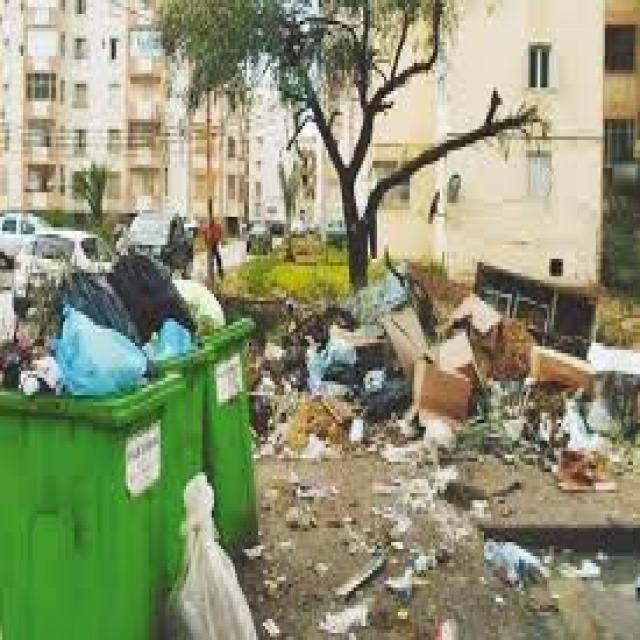garbage: (0, 242, 265, 640), (284, 269, 640, 504)
